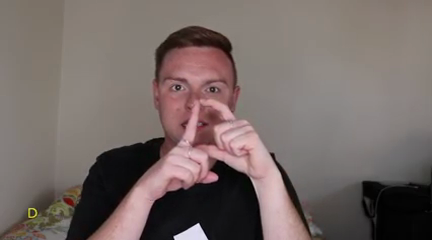D: (151, 92, 275, 189)
